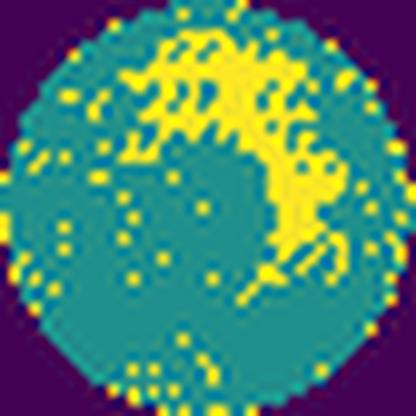Donut: (88, 26, 347, 303)
